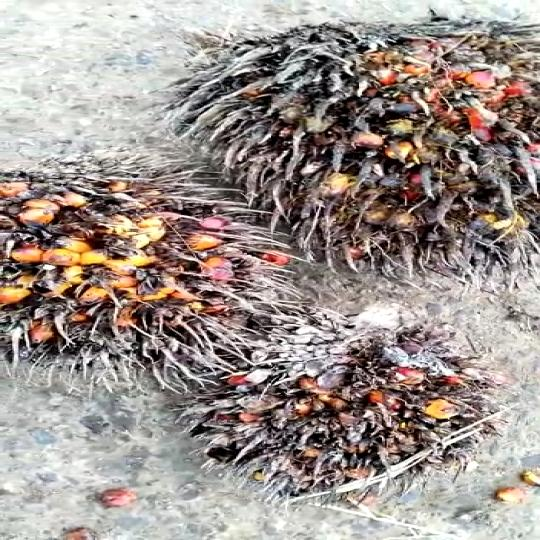terlalu masak: (161, 13, 540, 271), (169, 327, 500, 492)
